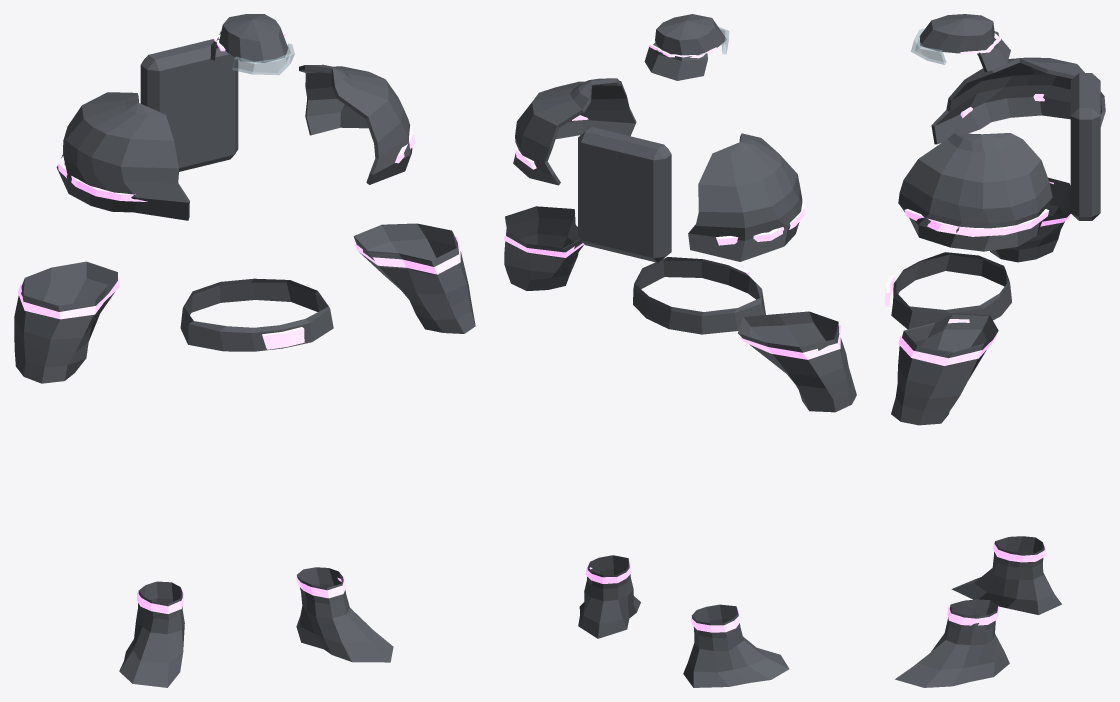
File: gear.glb
The picture shows the model from 3 angles, left to right: view 1: azimuth 30°, elevation 25°; view 2: azimuth 150°, elevation 25°; view 3: azimuth 270°, elevation 25°; orthographic projection. The views are drawn at different scales.
Visible parts, largest first — view 1: ShoulderPad_R, Backpack, Bracer_R, Bracer_L, ShoulderPad_L, Belt, Boot_L, Boot_R, Helmet, Helmet_Visor, Bracer_Light_L, Bracer_Light_R (+1 smaller); view 2: Backpack, ShoulderPad_R, Bracer_R, ShoulderPad_L, Belt, Bracer_L, Boot_R, Boot_L, Helmet, Helmet_CheekGuard, Bracer_Light_R, ShoulderPad_Light_R; view 3: ShoulderPad_L, ShoulderPad_R, Bracer_L, Boot_L, Boot_R, Backpack, Belt, Helmet, Bracer_R, ShoulderPad_Light_L, Bracer_Light_L, Helmet_CheekGuard (+3 smaller).
Part boxes in pixels (x1=…): ShoulderPad_R: x1=56, y1=92, x2=189, y2=220; Backpack: x1=140, y1=39, x2=238, y2=171; Bracer_R: x1=14, y1=261, x2=117, y2=383; Bracer_L: x1=353, y1=223, x2=475, y2=333; ShoulderPad_L: x1=299, y1=64, x2=412, y2=184; Belt: x1=180, y1=278, x2=333, y2=351; Boot_L: x1=296, y1=567, x2=393, y2=662; Boot_R: x1=119, y1=581, x2=184, y2=687; Helmet: x1=219, y1=14, x2=287, y2=62; Helmet_Visor: x1=232, y1=43, x2=294, y2=75; Bracer_Light_L: x1=354, y1=236, x2=460, y2=274; Bracer_Light_R: x1=18, y1=277, x2=119, y2=319; Backpack: x1=578, y1=127, x2=671, y2=262; ShoulderPad_R: x1=688, y1=133, x2=802, y2=261; Bracer_R: x1=738, y1=311, x2=856, y2=412; ShoulderPad_L: x1=513, y1=78, x2=636, y2=185; Belt: x1=633, y1=257, x2=765, y2=334; Bracer_L: x1=504, y1=206, x2=584, y2=290; Boot_R: x1=683, y1=604, x2=789, y2=687; Boot_L: x1=578, y1=555, x2=640, y2=638; Helmet: x1=655, y1=14, x2=726, y2=55; Helmet_CheekGuard: x1=644, y1=42, x2=707, y2=80; Bracer_Light_R: x1=739, y1=325, x2=840, y2=359; ShoulderPad_Light_R: x1=716, y1=196, x2=804, y2=245; ShoulderPad_L: x1=898, y1=133, x2=1052, y2=251; ShoulderPad_R: x1=931, y1=57, x2=1105, y2=144; Bracer_L: x1=891, y1=313, x2=998, y2=425; Boot_L: x1=895, y1=599, x2=1009, y2=687; Boot_R: x1=951, y1=536, x2=1061, y2=614; Backpack: x1=1070, y1=73, x2=1100, y2=220; Belt: x1=891, y1=252, x2=1011, y2=329; Helmet: x1=919, y1=14, x2=994, y2=53; Bracer_R: x1=990, y1=177, x2=1070, y2=262; ShoulderPad_Light_L: x1=904, y1=209, x2=1049, y2=236; Bracer_Light_L: x1=898, y1=319, x2=996, y2=365; Helmet_CheekGuard: x1=977, y1=31, x2=1010, y2=72.
Bounding box in the file's own units: 1.28 × 1.96 × 0.639.
